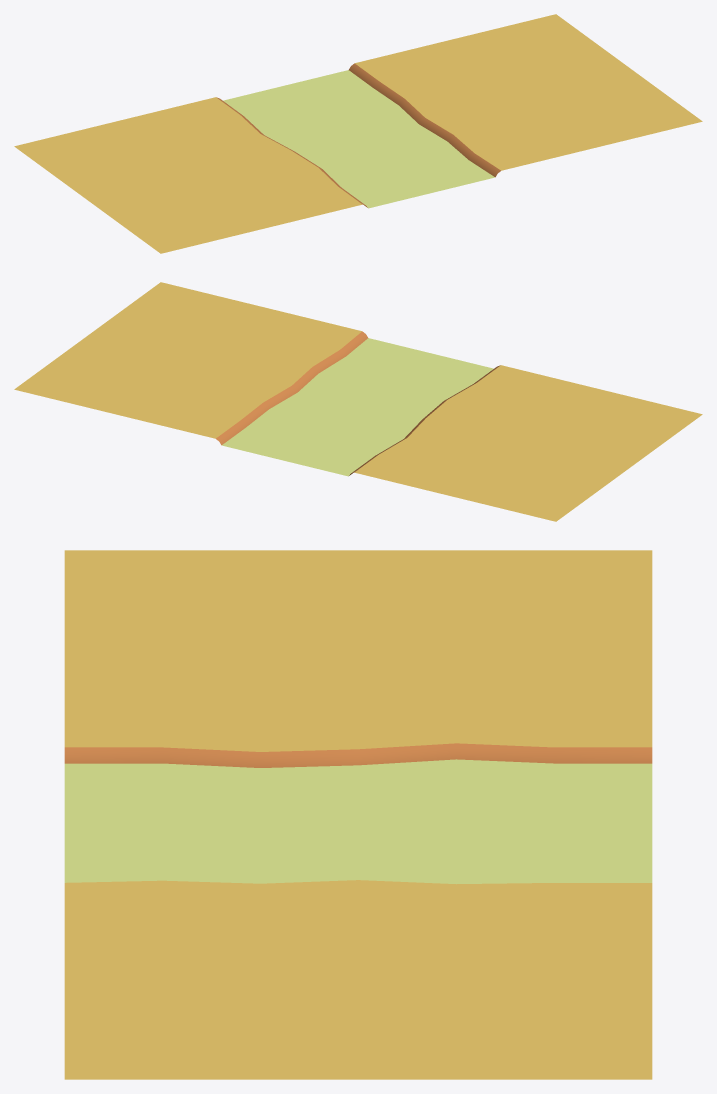
The model's file is Floor.fbx.
3 views of the same model, one above another, from view 1: azimuth 30°, elevation 25°; view 2: azimuth 150°, elevation 25°; view 3: azimuth 270°, elevation 25° (orthographic). The views are drawn at different scales.
Parts seen in each view (by area): view 1: Plane; view 2: Plane; view 3: Plane.
Part boxes in pixels (box(x1,y1,x2,y2)): Plane: box(14, 14, 702, 253); Plane: box(14, 282, 702, 521); Plane: box(64, 550, 652, 1079).
Size of the model in its own units: 25.58 by 0.2371 by 12.
